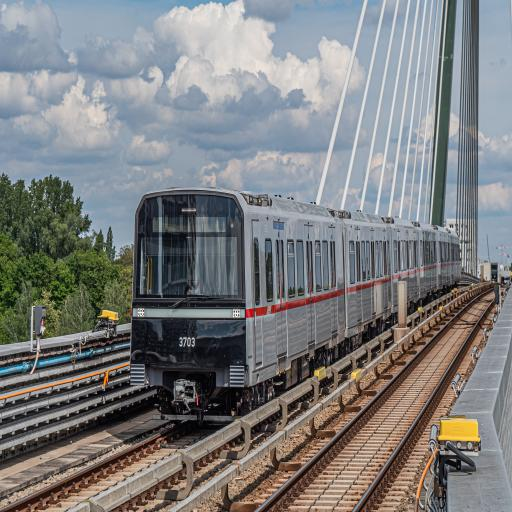X-Wagen: (134, 185, 466, 414)
